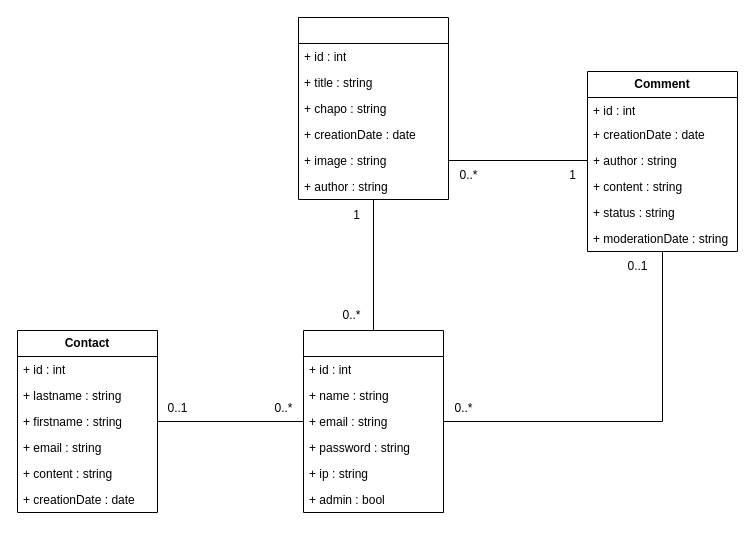
The diagram is 755 pixels wide and 533 high, and some of its shapes have lost their labels. The shapes that lost their labels are listed below. From the top down, each one's box as (x1, y1, x2, y2) in pixels, then its label:
(298, 16, 448, 200): Articles
(302, 330, 444, 512): Utilisateur
